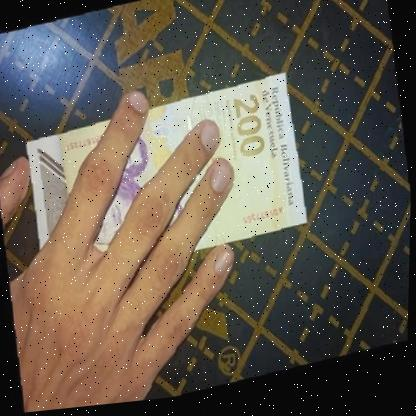two_hundred-front-vef: (22, 73, 312, 287)
